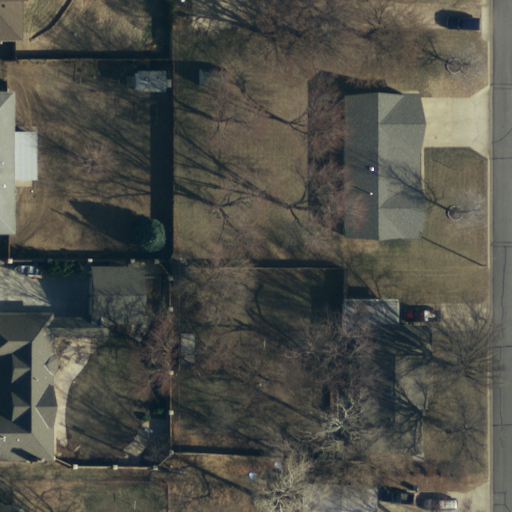DT: (470, 253, 493, 277)
